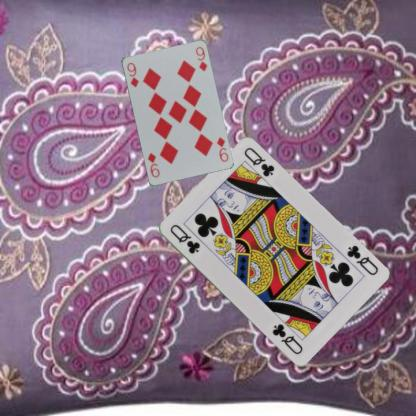9d: (124, 60, 140, 88), (214, 134, 229, 163)
Qc: (344, 242, 379, 276), (167, 222, 201, 255)
